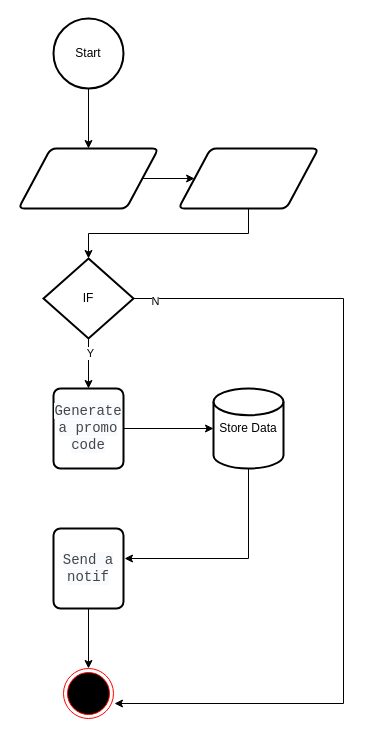
Image size: 369x736. Some labels were removed from this diagram. Here are the shapes that lost their labels. From the top down, the box of each, then its label:
(17, 147, 159, 209): Retrieve current date
(177, 147, 319, 209): Verified current date
